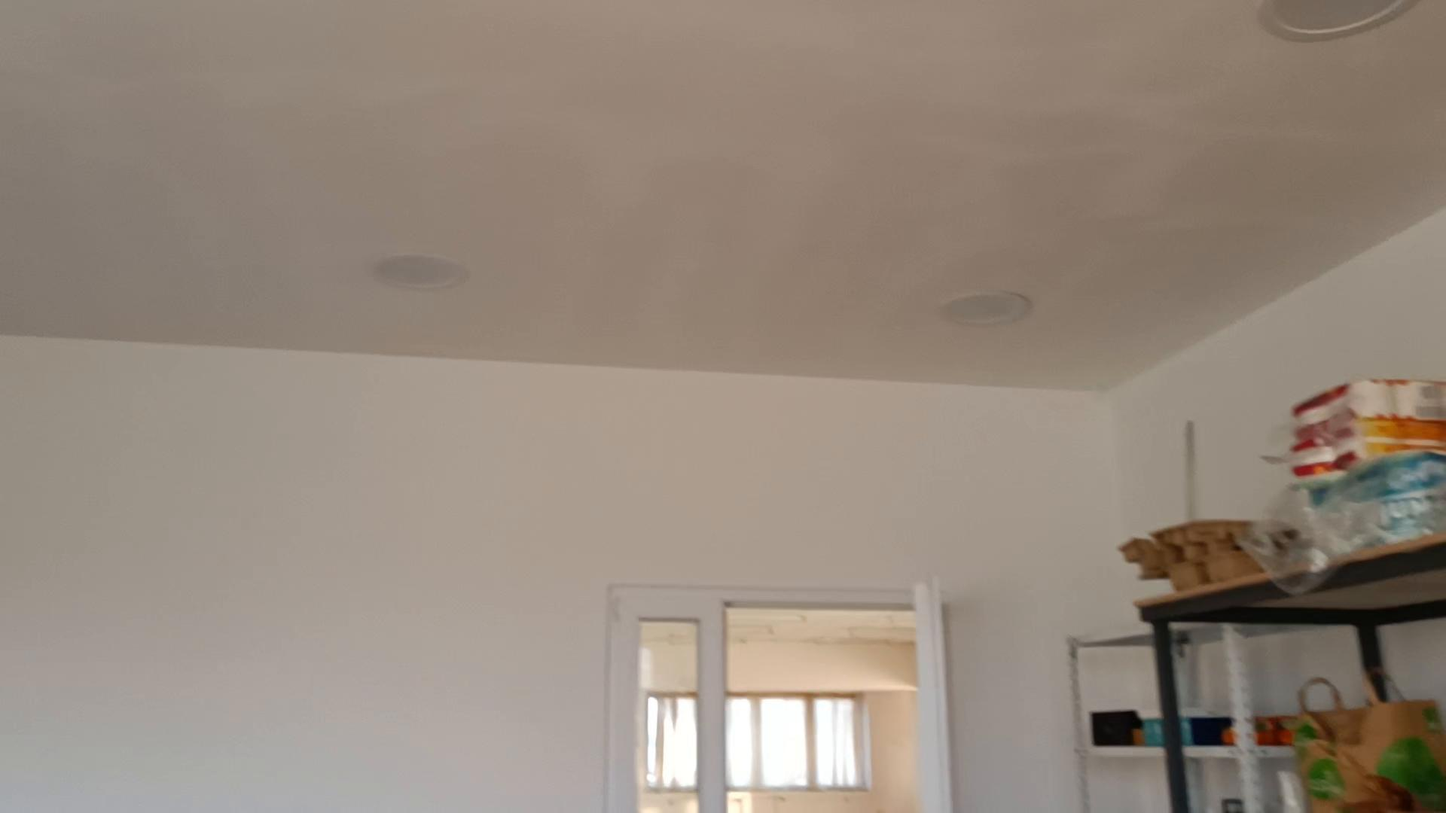ceiling: (0, 0, 1445, 388)
wall: (0, 0, 1445, 810)
